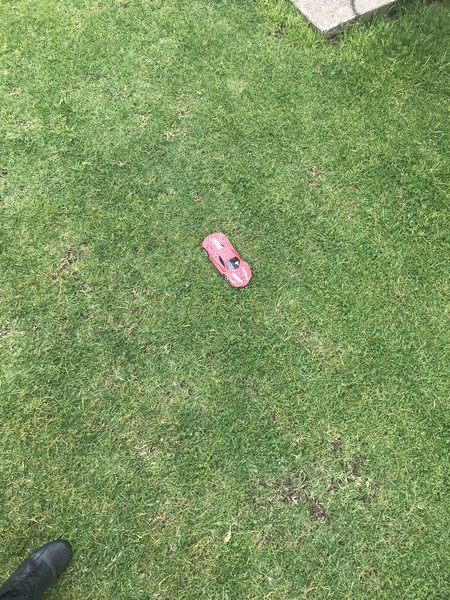RC: (200, 229, 252, 292)
